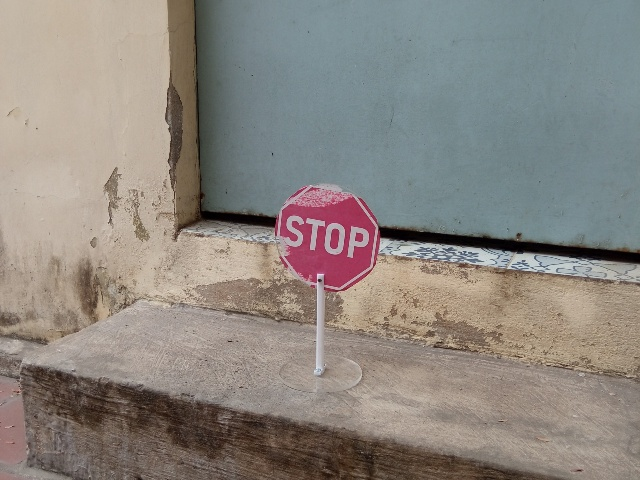Stop_Sign: (274, 182, 380, 292)
